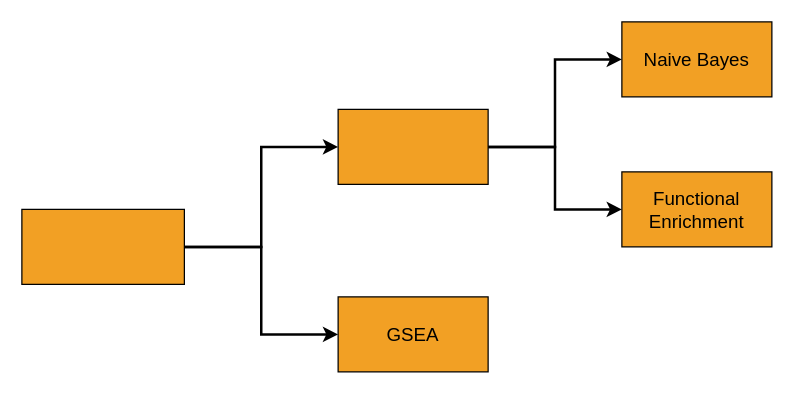
This 794x394 diagram has some shape labels left out. Here are the shapes that lost their labels. From the top down, the centre of each, then its label:
At point (412, 146): "D.E. Analysis".
At point (102, 246): "Q&A".
